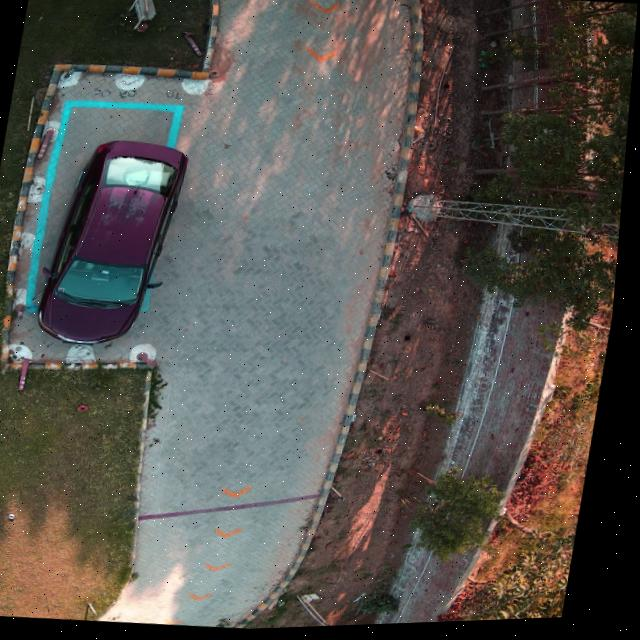car: (42, 140, 188, 342)
